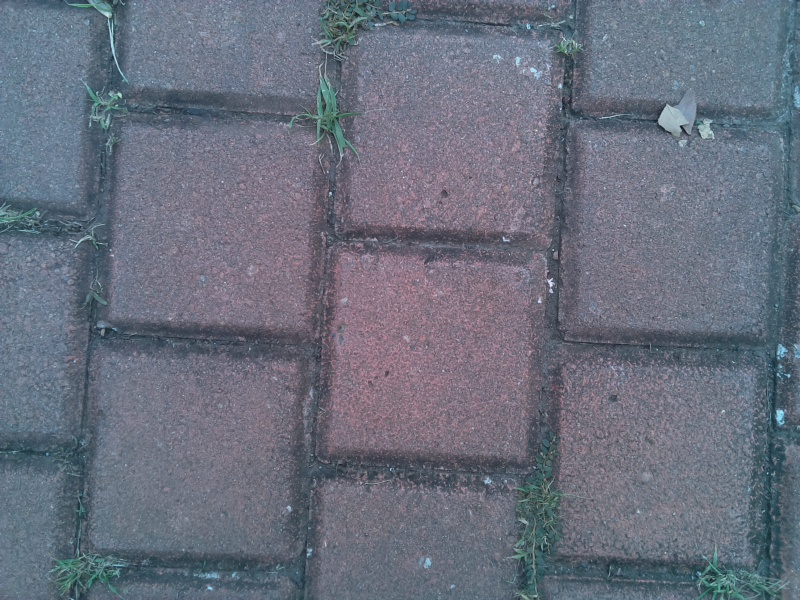Weed: (508, 463, 566, 594), (291, 77, 359, 159), (319, 2, 421, 52), (689, 549, 789, 600), (45, 545, 129, 596), (79, 80, 122, 134), (546, 28, 587, 74), (73, 218, 109, 257), (77, 276, 113, 314)
